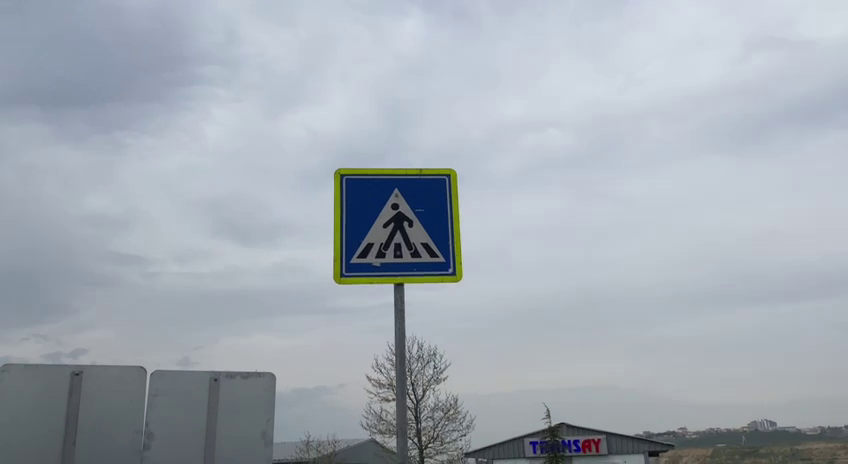pedestrianCrossing: (331, 166, 465, 286)
